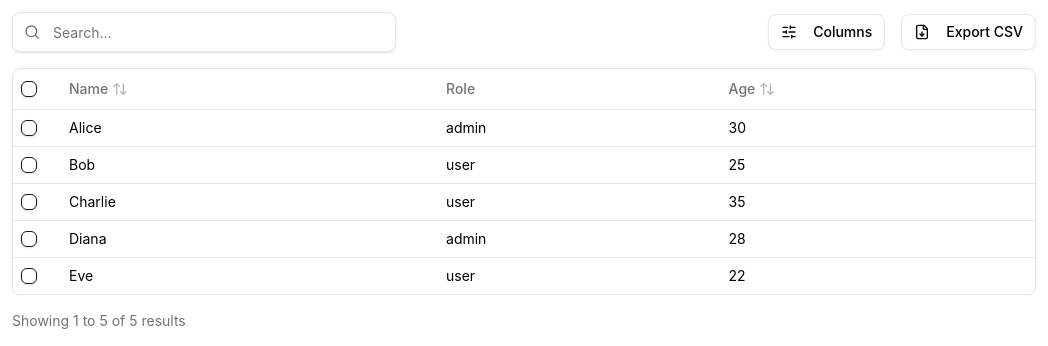
Scenario: DataTable › Labels / i18n › uses custom noResultsWithFilters label after debounced search
The image size is (1048, 346).
Step 1. Type "zzz" into the field with placeholder "Search..." → (204,32), box x1=12 y1=12 x2=396 y2=52
Wait 1100 ms
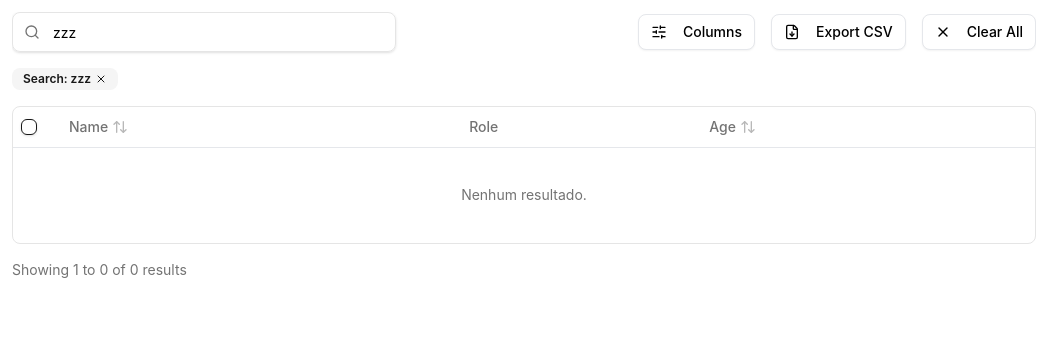
Now the text "Nenhum resultado." is shown, box x1=13 y1=147 x2=1035 y2=243
